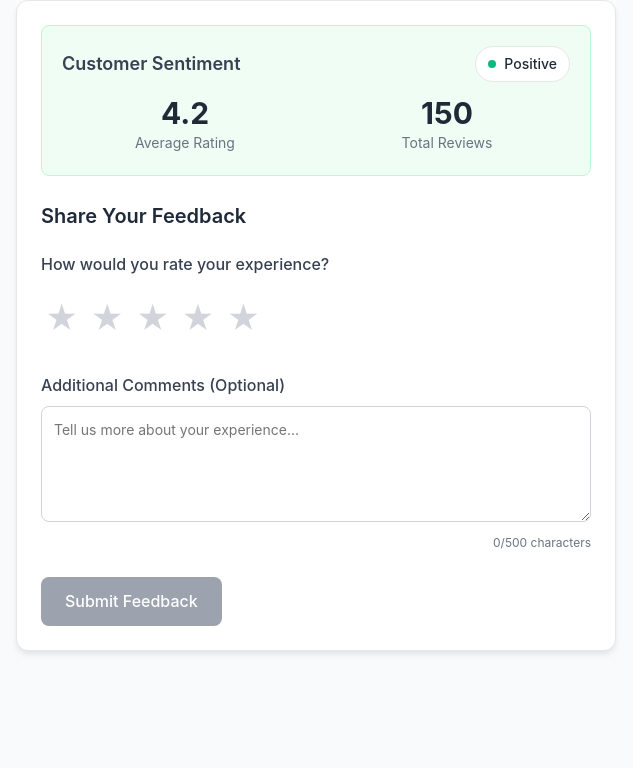
CustomerFeedbackWidget › Form Submission › handles submission error
The image size is (633, 768).
Expected: the heading "Customer Sentiment" is shown, [62,50,240,79]
# Select rating and submit
Click the button named "Rate 3 stars" at (153, 319), box [132,289,173,349]
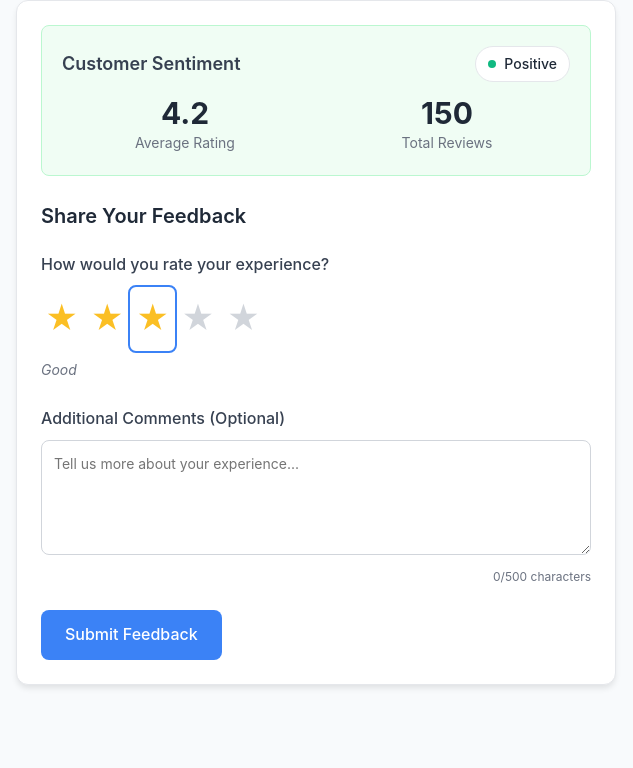
Click the button "Submit Feedback" at (131, 635), box [41,610,222,660]
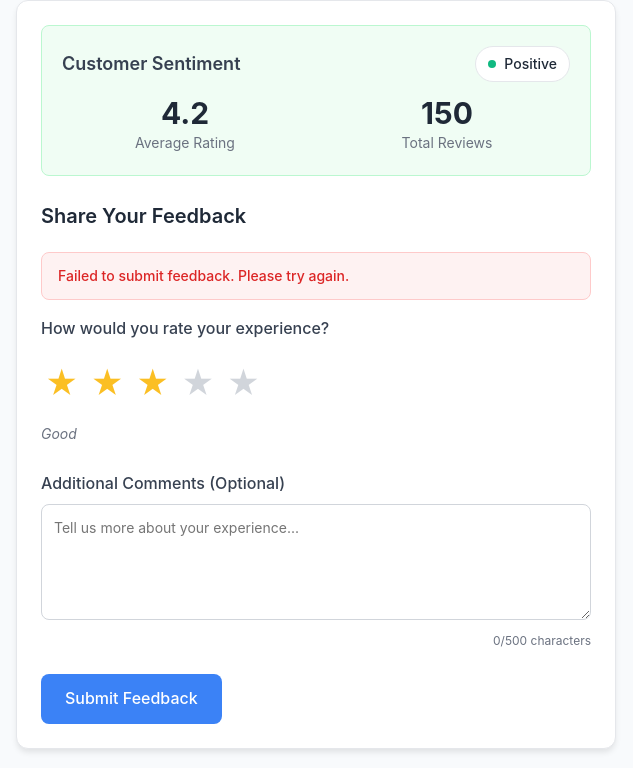
Now the text "Failed to submit feedback. Please try again." is shown, box [41,252,591,300]
